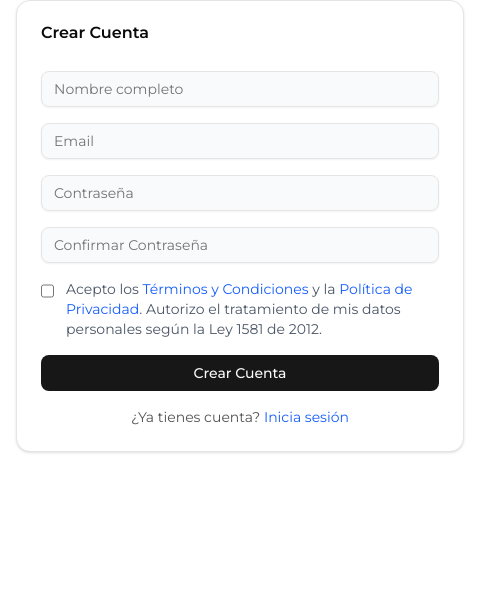
Test: RegisterPage › should show validation errors for empty fields
The width and height of the screenshot is (481, 598).
Note: Submit form without filling fields
Click the button "Crear Cuenta" at (240, 373), box [41,355,439,391]
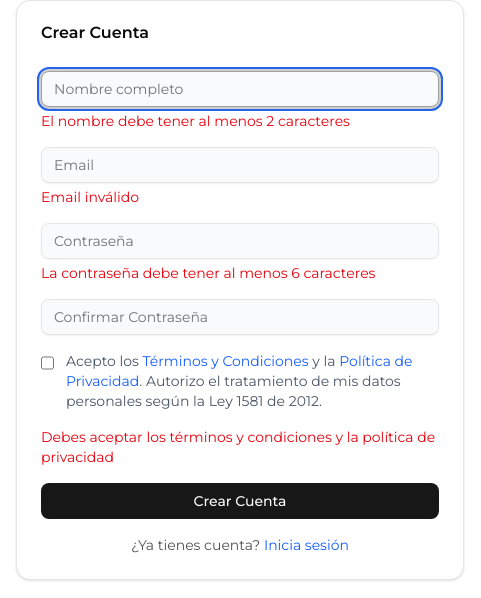
expect the text "El nombre debe tener al menos 2 caracteres" is shown: met, box [41,112,350,130]
